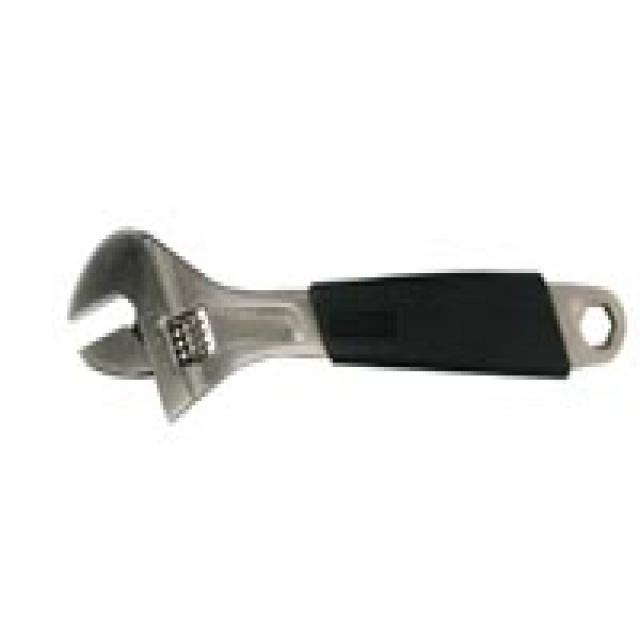wrench: (57, 218, 636, 428)
